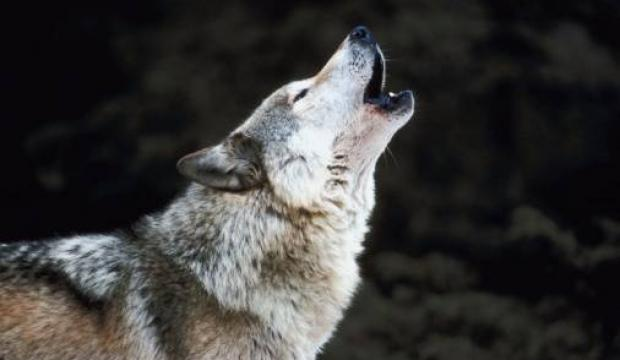wolf: (1, 22, 419, 354)
